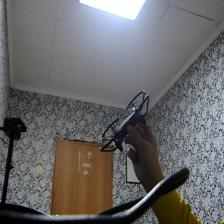drone: (98, 91, 155, 163)
